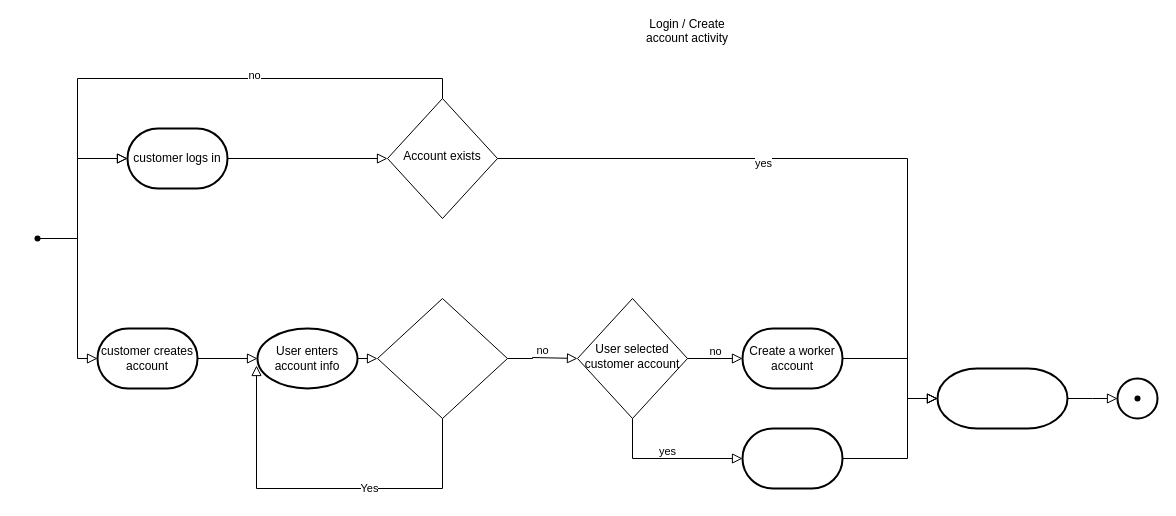
Some shapes in this 1176 by 516 pixel diagram are drawn without their labels. The box of each missing label's shape, as (x1, y1, x2, y2) in pixels:
Account username already exists: (376, 298, 508, 418)
Create a customer account: (741, 427, 843, 489)
Customer sees homepage with there account info: (936, 367, 1068, 429)
